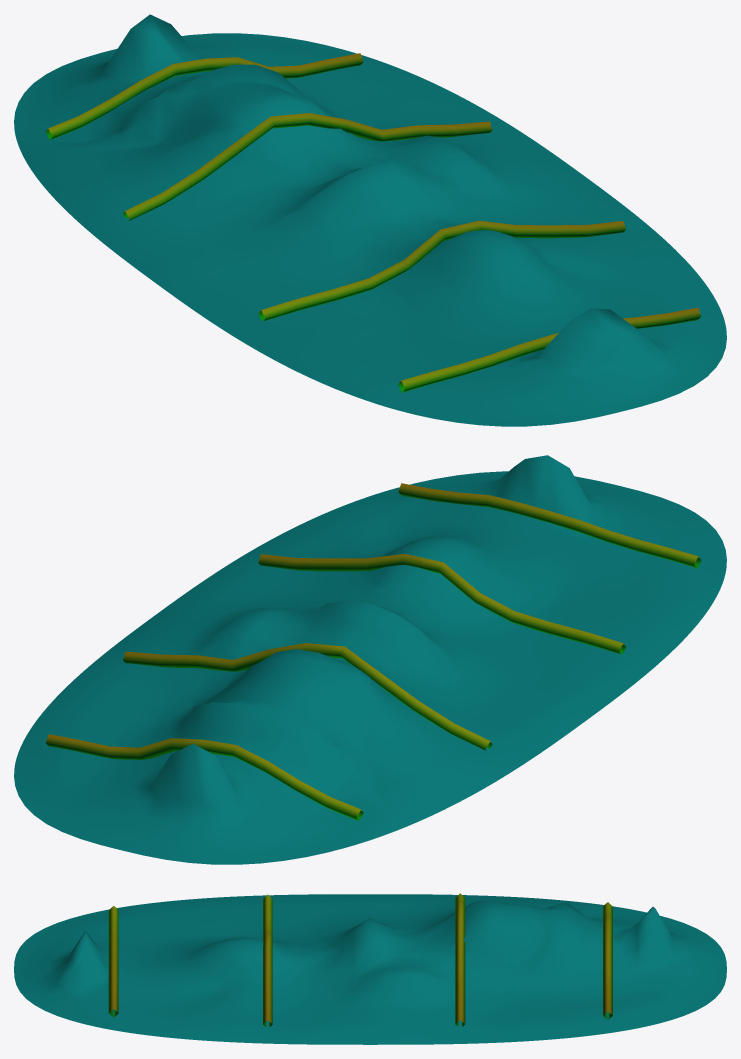
The model's file is shroud_bound_b.glb.
The picture shows the model from 3 angles, top to bottom: view 1: azimuth 30°, elevation 25°; view 2: azimuth 150°, elevation 25°; view 3: azimuth 270°, elevation 25°; orthographic projection. The views are drawn at different scales.
Visible parts, largest first — view 1: shroud_bound_b; view 2: shroud_bound_b; view 3: shroud_bound_b.
Part boxes in pixels (bbox=[...]): shroud_bound_b: bbox=[14, 14, 726, 426]; shroud_bound_b: bbox=[14, 455, 726, 864]; shroud_bound_b: bbox=[14, 893, 726, 1044].
Size of what is drawn, in the model's own units: 1 by 0.1697 by 2.
